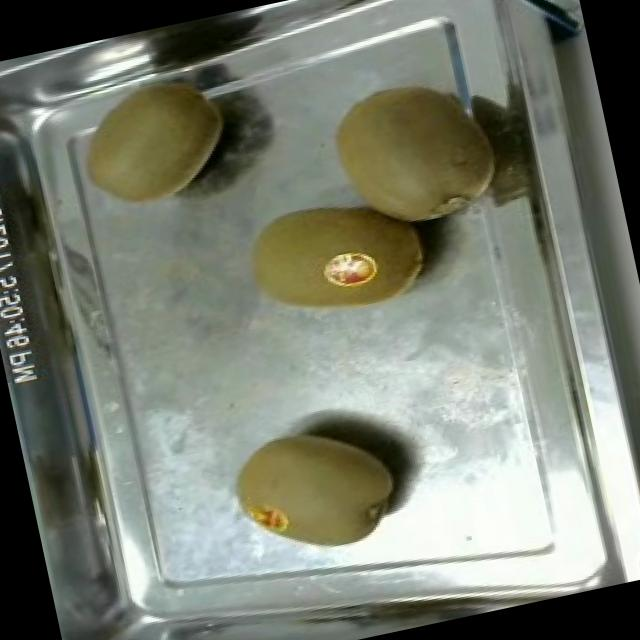Fruit: (308, 56, 518, 250), (214, 403, 420, 578), (227, 175, 440, 342), (58, 58, 250, 226)
